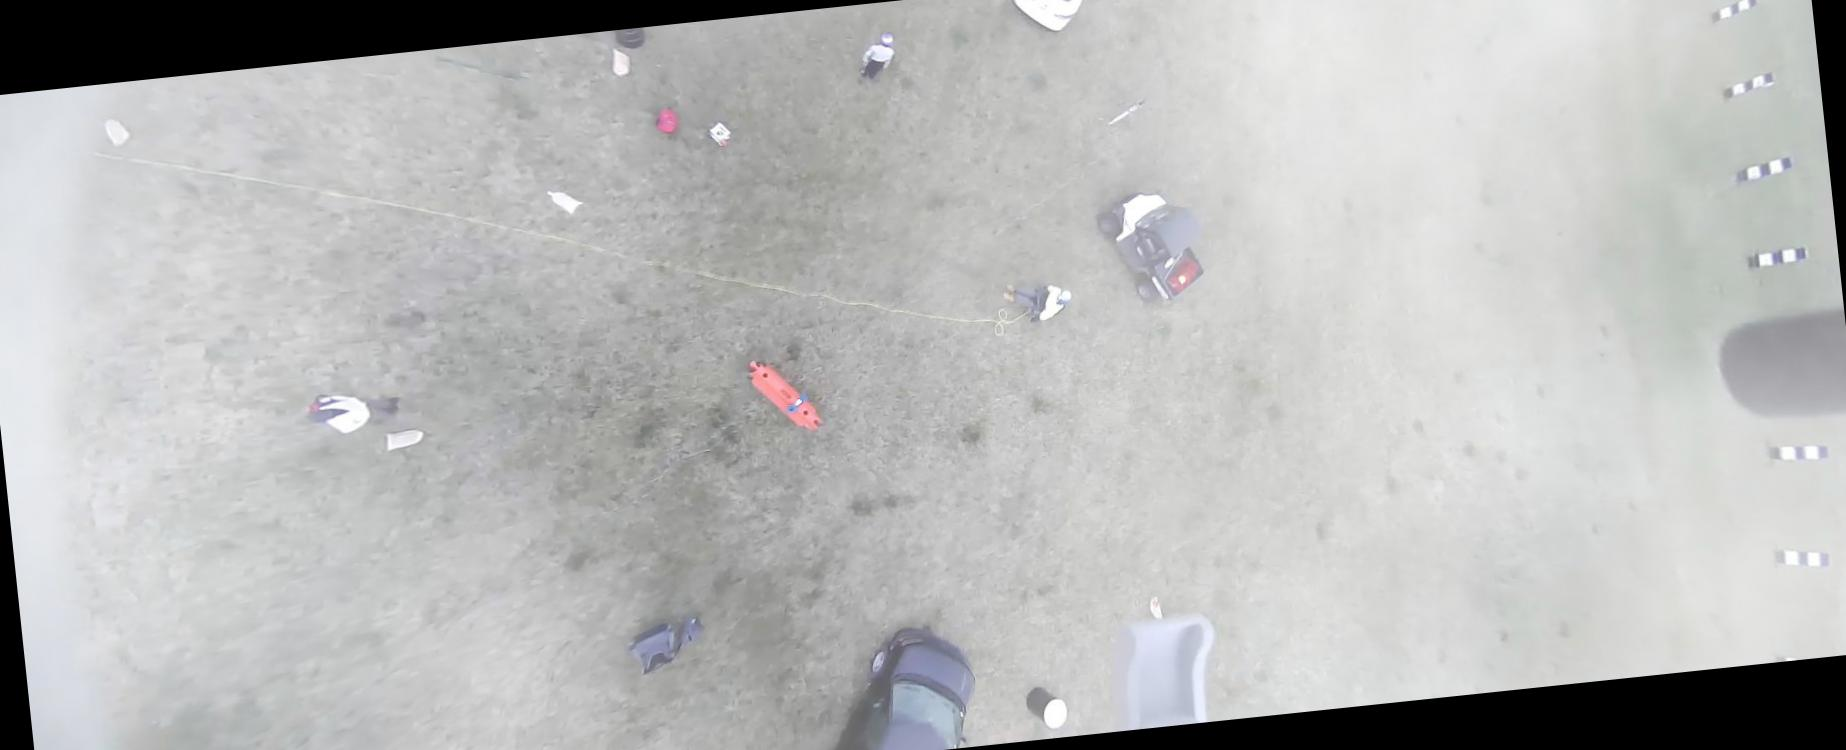vehicle: (815, 620, 984, 749), (1095, 186, 1211, 310), (1010, 0, 1098, 38)
